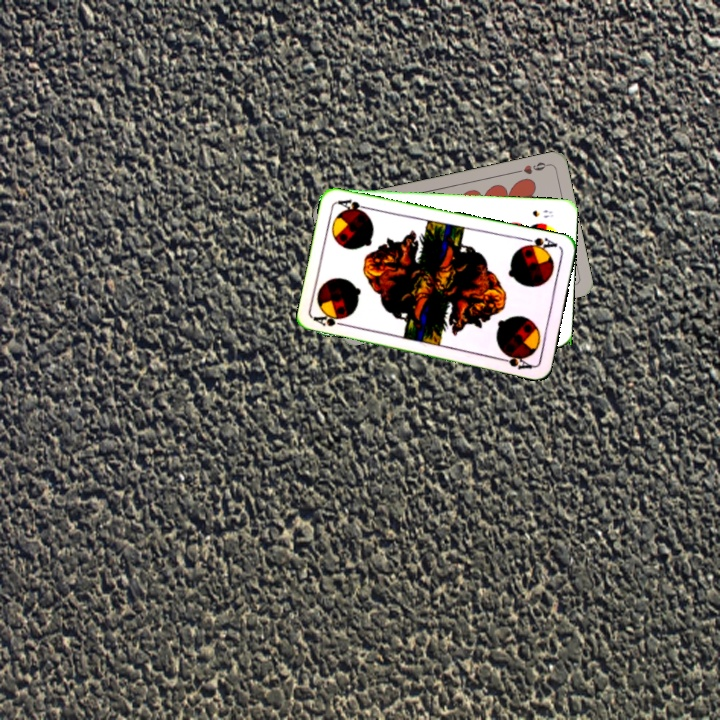H9: (511, 158, 551, 177)
S8: (529, 206, 556, 220)
SA: (518, 234, 560, 254), (311, 312, 351, 329)
